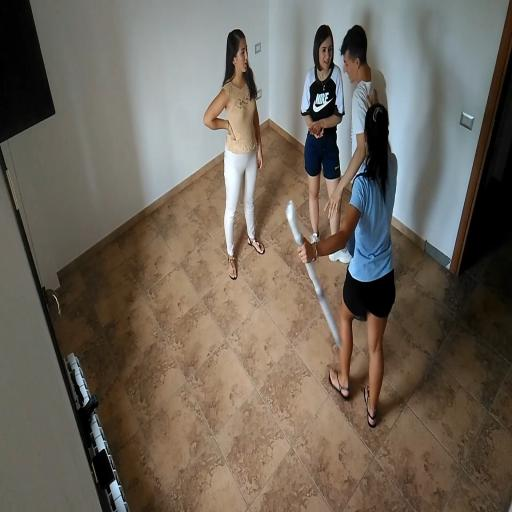gesto leve: (290, 25, 427, 411)
